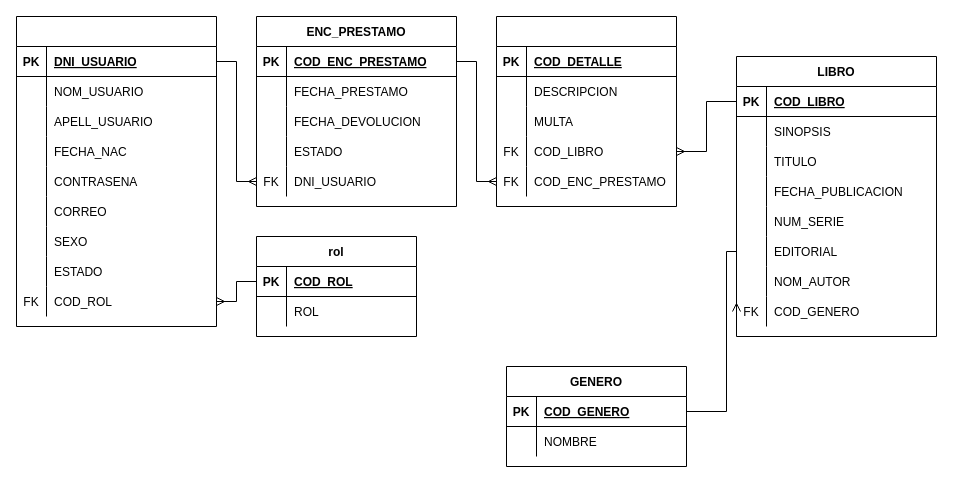
Image size: 953x483. Some labels were removed from this diagram. The shapes that lost their labels are listed below. From the top down, each one's box as (x1, y1, x2, y2) in pixels, then its label:
(496, 16, 676, 206): DET_PRESTAMO
(16, 16, 216, 326): DATOS_USUARIO
